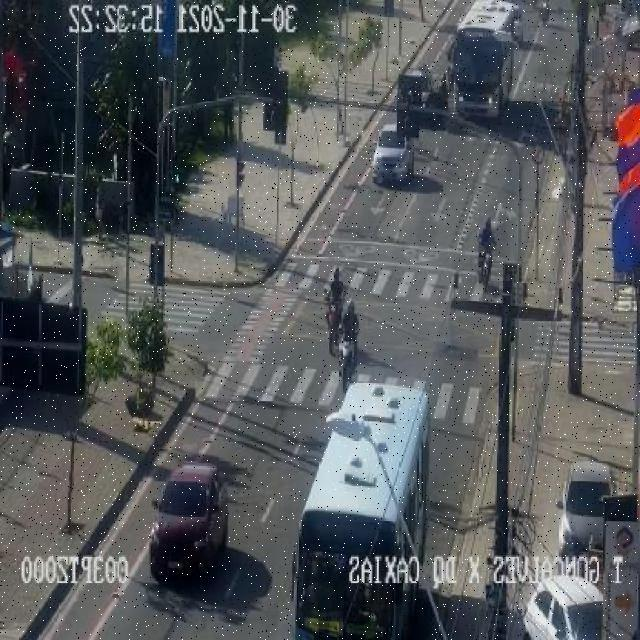Bus: (292, 380, 432, 639), (449, 2, 525, 122)
Car: (149, 458, 230, 582), (558, 460, 616, 556), (525, 574, 605, 640), (372, 124, 414, 186)
